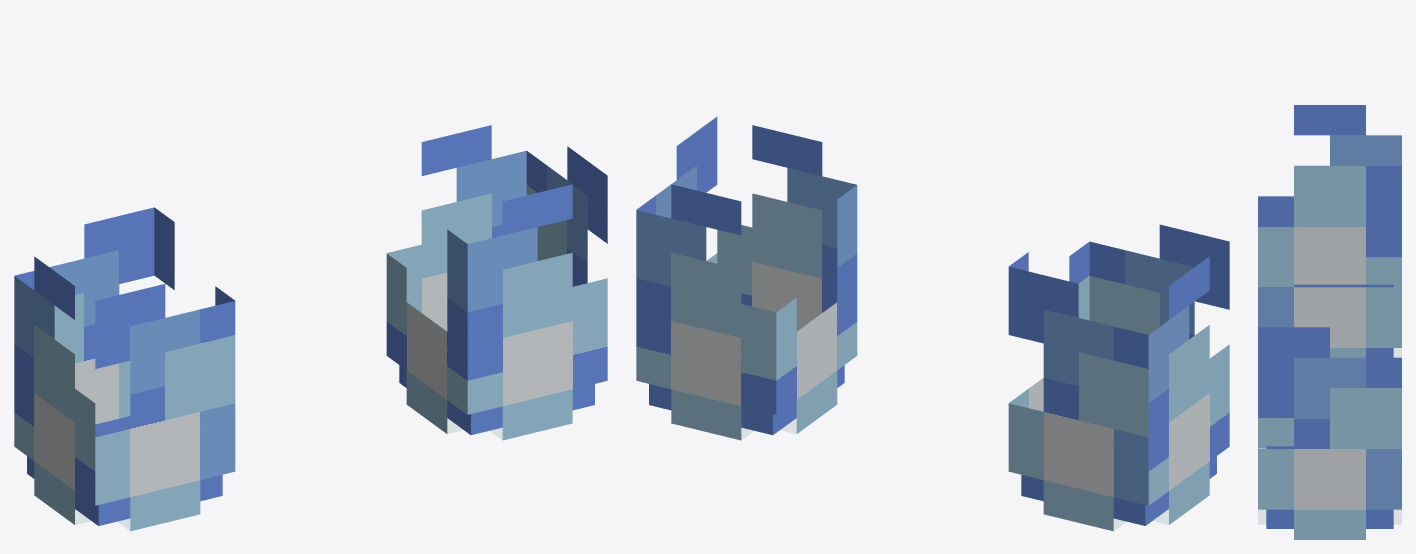
File: sl_rgb_fire_fists.glb
The picture shows the model from 3 angles, left to right: view 1: azimuth 30°, elevation 25°; view 2: azimuth 150°, elevation 25°; view 3: azimuth 270°, elevation 25°; orthographic projection. The views are drawn at different scales.
Parts seen in each view (by area): view 1: bb_rgb_fire_fists; view 2: bb_rgb_fire_fists; view 3: bb_rgb_fire_fists.
Part boxes in pixels (left/top/right/bottom): bb_rgb_fire_fists: left=14, top=125, right=607, bottom=531; bb_rgb_fire_fists: left=636, top=116, right=1229, bottom=531; bb_rgb_fire_fists: left=1258, top=105, right=1401, bottom=539.
Bounding box in the file's own units: 1.03 × 0.6575 × 0.2825.
1 material, 1 textured.
